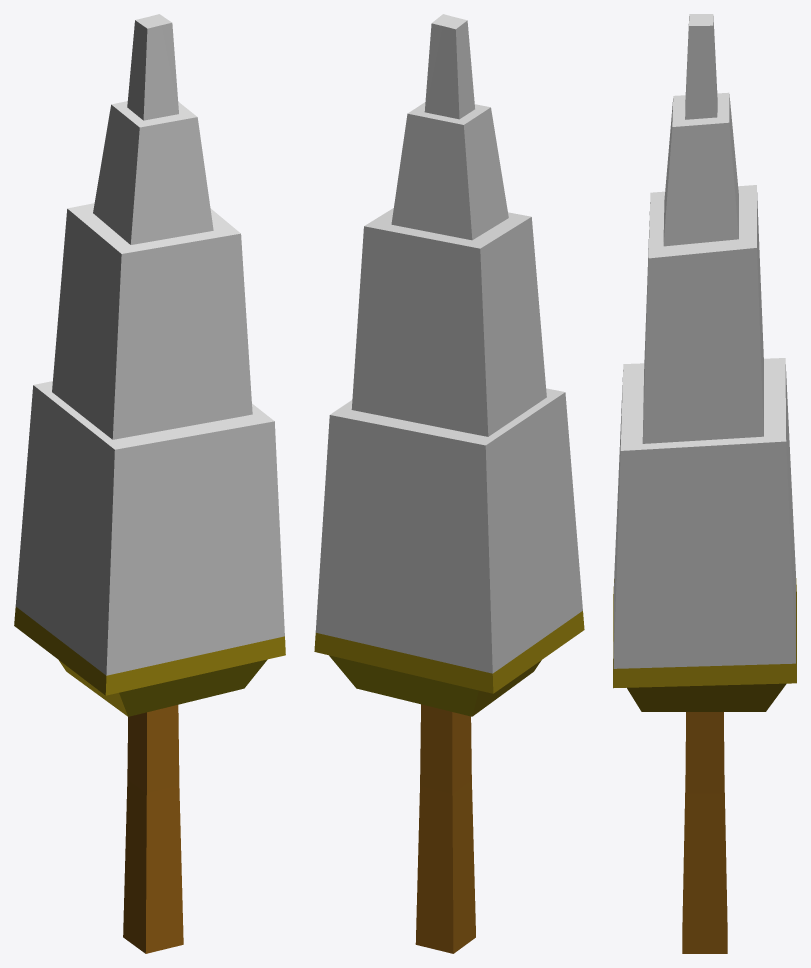
Rendered from SF_Env_Tree_Snow_10.fbx.
3 renders of one model, left to right at view 1: azimuth 30°, elevation 25°; view 2: azimuth 150°, elevation 25°; view 3: azimuth 270°, elevation 25°, orthographic.
Visible parts, largest first — view 1: SF_Env_Tree_Snow_10; view 2: SF_Env_Tree_Snow_10; view 3: SF_Env_Tree_Snow_10.
Boxes of the visible parts, x1,y1,x2,y2 form: SF_Env_Tree_Snow_10: [14, 14, 285, 953]; SF_Env_Tree_Snow_10: [314, 14, 584, 953]; SF_Env_Tree_Snow_10: [613, 14, 796, 953].
Bounding box in the file's own units: 1.93 × 9.43 × 1.7.
